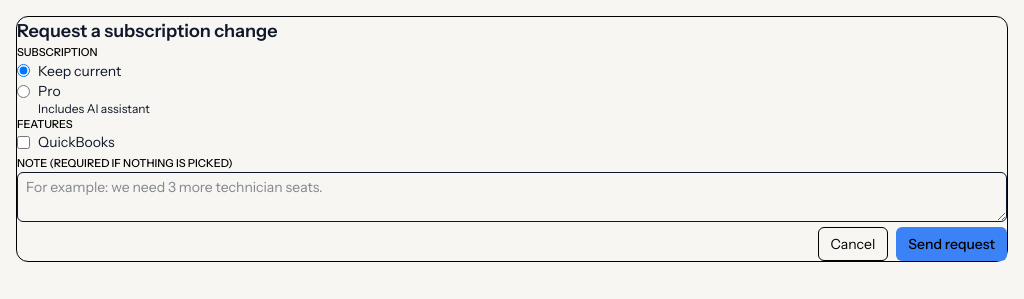
Scenario: RequestChangeDialog › requires a note when nothing is picked
Click the button "Send request".
click(952, 244)  # box [896, 227, 1007, 261]
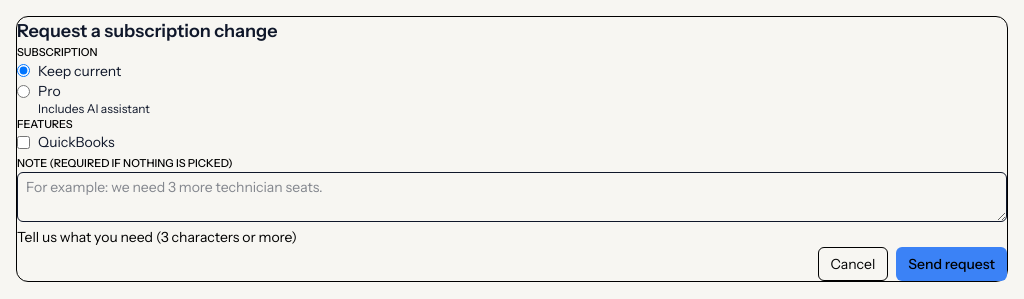
Check: the text "Tell us what you need (3 characters or more)" is shown, box [17, 228, 297, 246]
